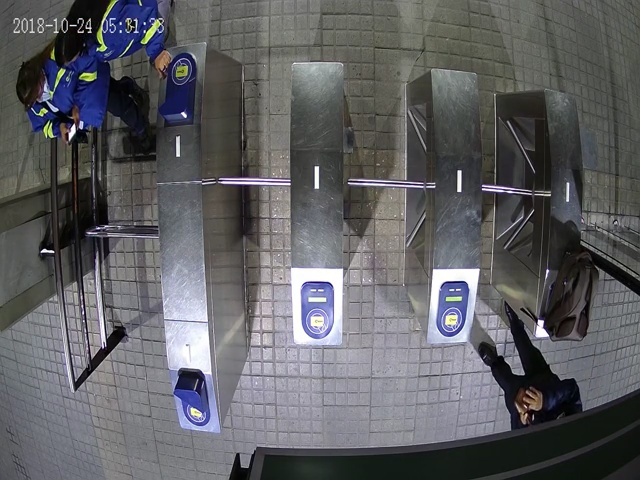Chaleco_azul: (15, 38, 150, 140), (52, 1, 172, 75)
